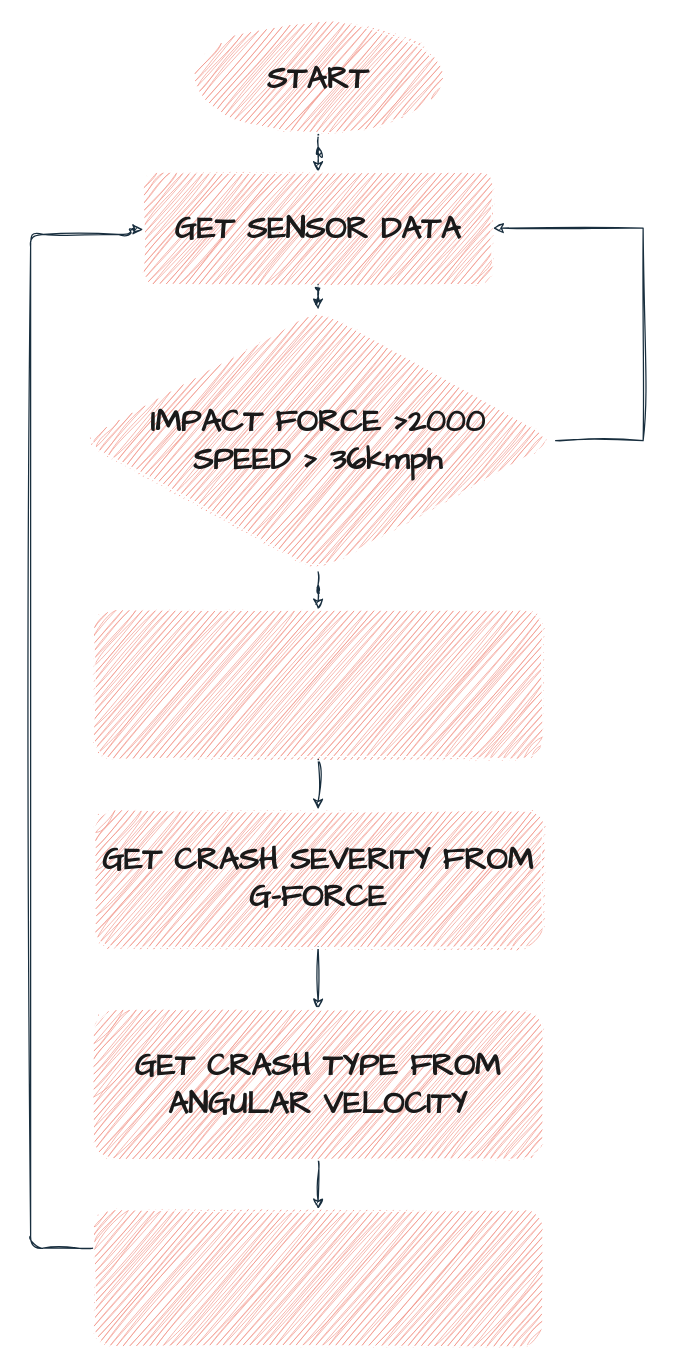
Some shapes in this 675 by 1369 pixel diagram are drawn without their labels. The box of each missing label's shape, as (x1, y1, x2, y2) in pixels:
CALCULATE G-FORCE, ANGULAR VELOCITY: (92, 608, 543, 759)
PERFORM UPLOAD: (92, 1208, 543, 1347)
